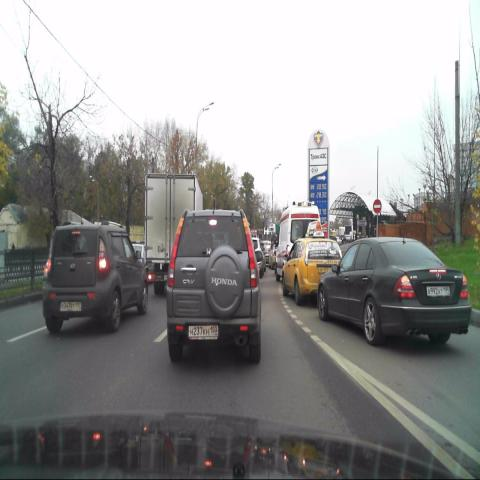3_1: (372, 199, 382, 214)
